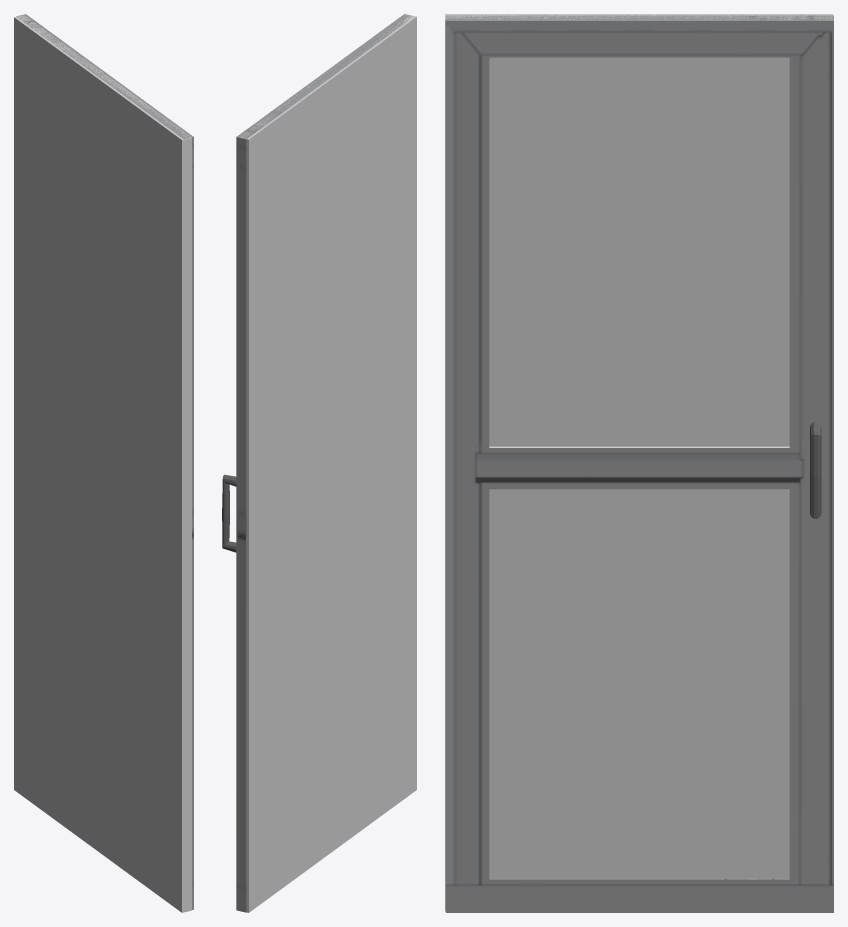
Rendered from staffDoor.fbx.
3 views of the same model, side by side, from view 1: azimuth 30°, elevation 25°; view 2: azimuth 150°, elevation 25°; view 3: azimuth 270°, elevation 25° (orthographic). The views are drawn at different scales.
Parts seen in each view (by area): view 1: Cube.003, Cube.001; view 2: Cube.003, Cube.001, Plane.001; view 3: Cube.003, Cube.001, Plane.001.
Part boxes in pixels (x1,y1,x2,y2): Cube.003: (14,15,191,912); Cube.001: (16,14,193,909); Cube.003: (241,14,416,912); Cube.001: (236,14,413,912); Plane.001: (222,474,236,552); Cube.003: (445,14,832,911); Cube.001: (446,15,833,912); Plane.001: (810,421,821,518).
Bounding box in the file's own units: 84.65 × 1868 × 738.
4 materials, 1 textured.
